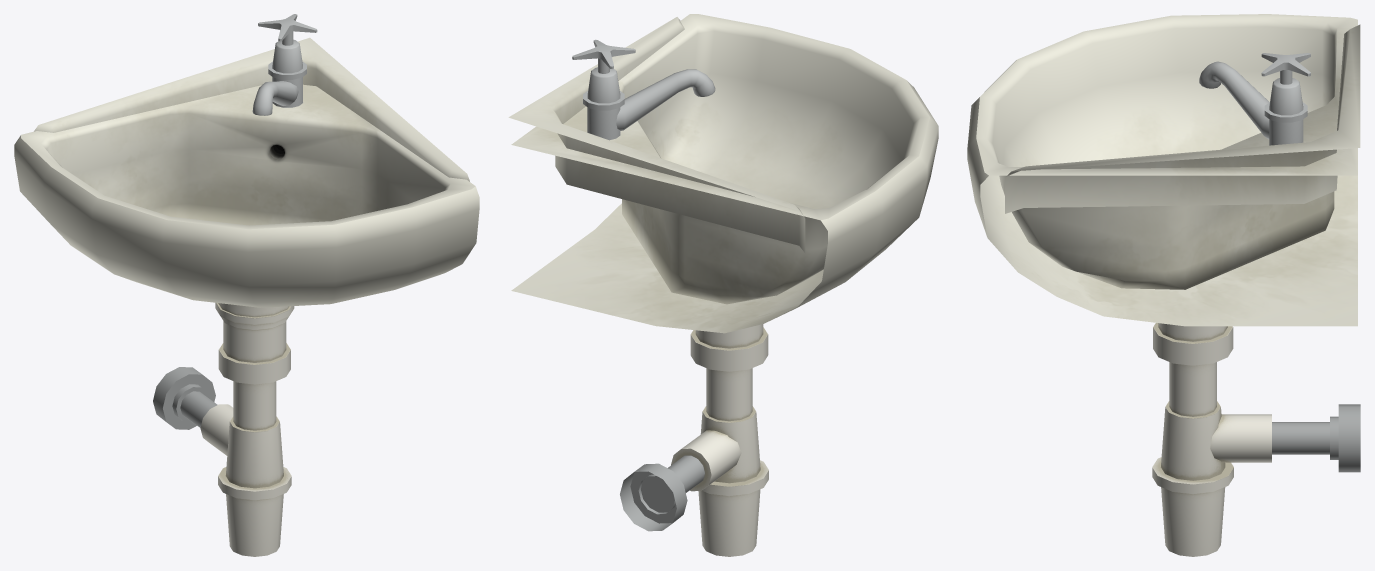
The model's file is toilet_sink.FBX.
3 renders of one model, left to right at view 1: azimuth 30°, elevation 25°; view 2: azimuth 150°, elevation 25°; view 3: azimuth 270°, elevation 25°, orthographic. The views are drawn at different scales.
Visible parts, largest first — view 1: toilet_sink002; view 2: toilet_sink002; view 3: toilet_sink002.
Part boxes in pixels (bbox=[...]): toilet_sink002: bbox=[14, 14, 479, 556]; toilet_sink002: bbox=[508, 14, 938, 556]; toilet_sink002: bbox=[967, 14, 1360, 556].
Bounding box in the file's own units: 37.65 × 55.65 × 37.62.
Materials: 1 (1 with a texture image).
